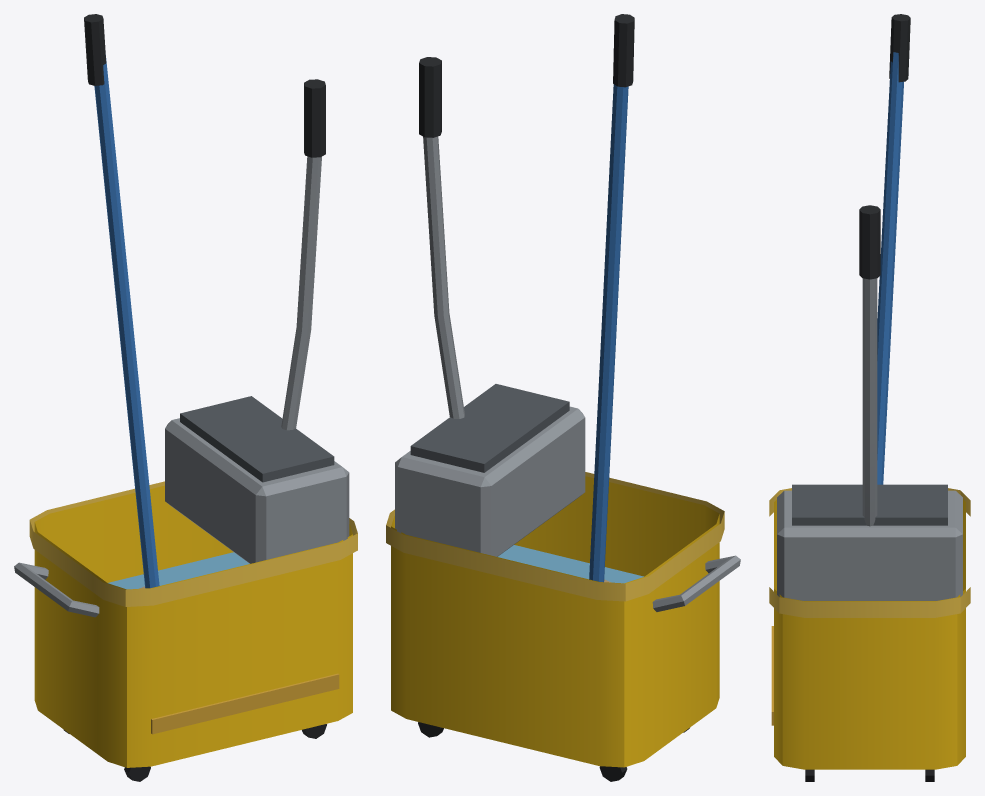
The model's file is SC_Fix_Mop_Bucket.gltf.
3 views of the same model, side by side, from view 1: azimuth 30°, elevation 25°; view 2: azimuth 150°, elevation 25°; view 3: azimuth 270°, elevation 25° (orthographic). The views are drawn at different scales.
Parts seen in each view (by area): view 1: SC_Fix_Mop_Bucket; view 2: SC_Fix_Mop_Bucket; view 3: SC_Fix_Mop_Bucket.
Part boxes in pixels (left/top/right/bottom): SC_Fix_Mop_Bucket: left=14, top=14, right=357, bottom=781; SC_Fix_Mop_Bucket: left=386, top=14, right=740, bottom=781; SC_Fix_Mop_Bucket: left=769, top=14, right=970, bottom=781.
Bounding box in the file's own units: 0.5147 × 1.26 × 0.336.
Materials: 1 (1 with a texture image).
